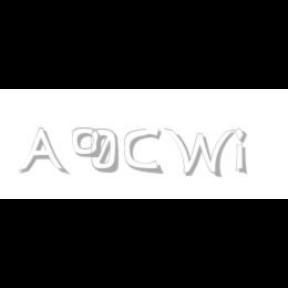0: (91, 128, 122, 174)
A: (18, 128, 66, 176)
C: (124, 128, 162, 174)
W: (163, 128, 235, 178)
i: (235, 128, 251, 176)
o: (72, 128, 100, 158)
